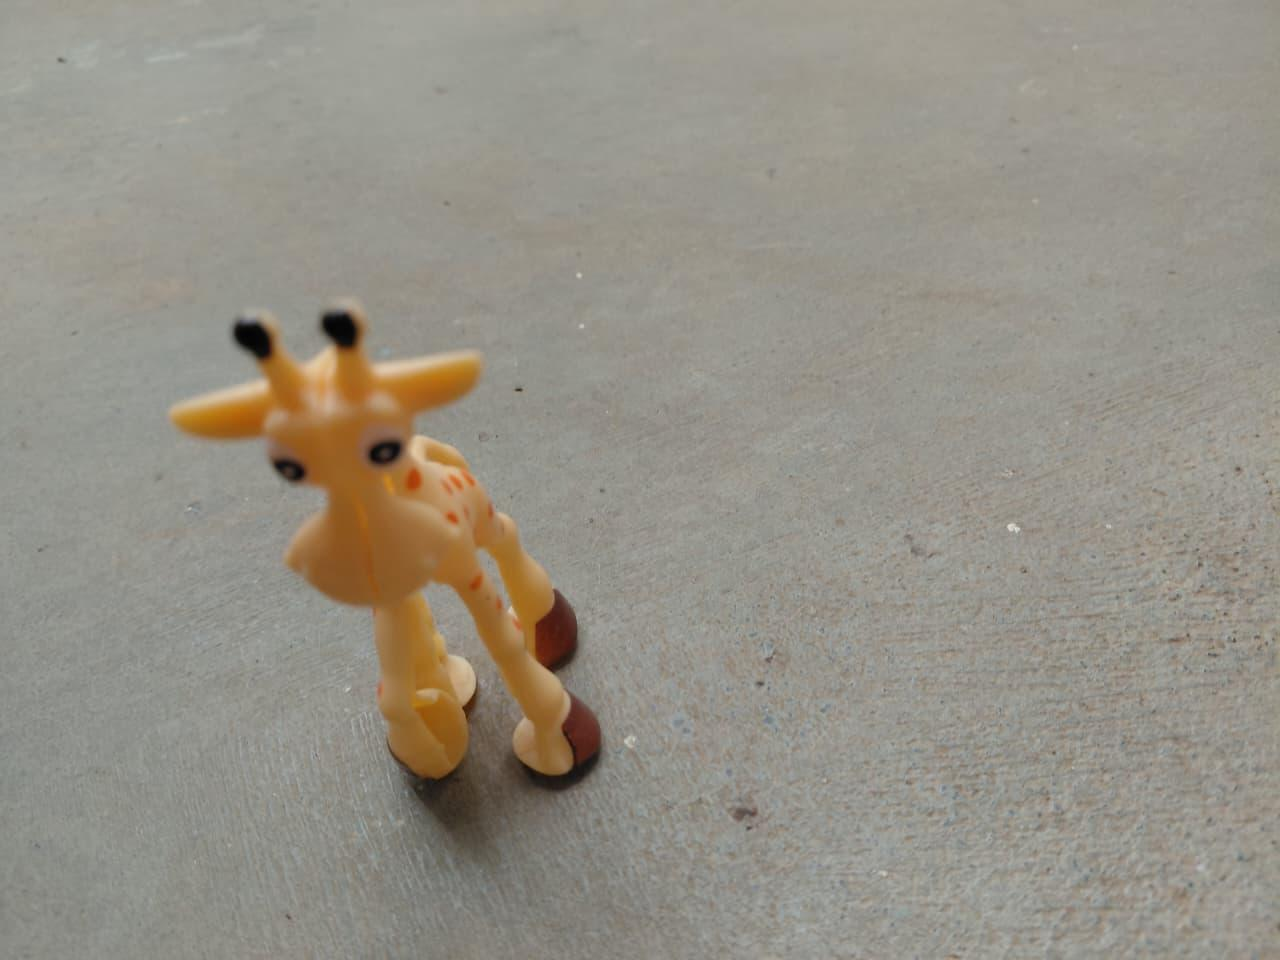giraffe: (112, 260, 697, 833)
